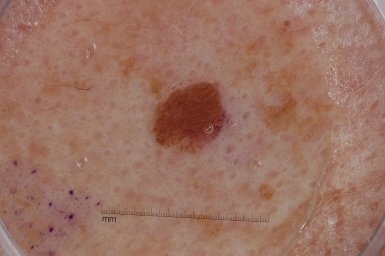seborrheic keratosis: (128, 66, 245, 176)
